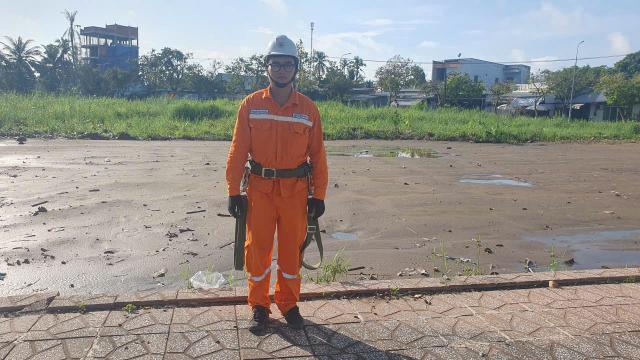gloves: (304, 197, 334, 224), (220, 186, 242, 222)
harness: (242, 153, 314, 182)
helmet: (260, 30, 301, 65)
shoes: (276, 302, 310, 330), (246, 298, 271, 334)
